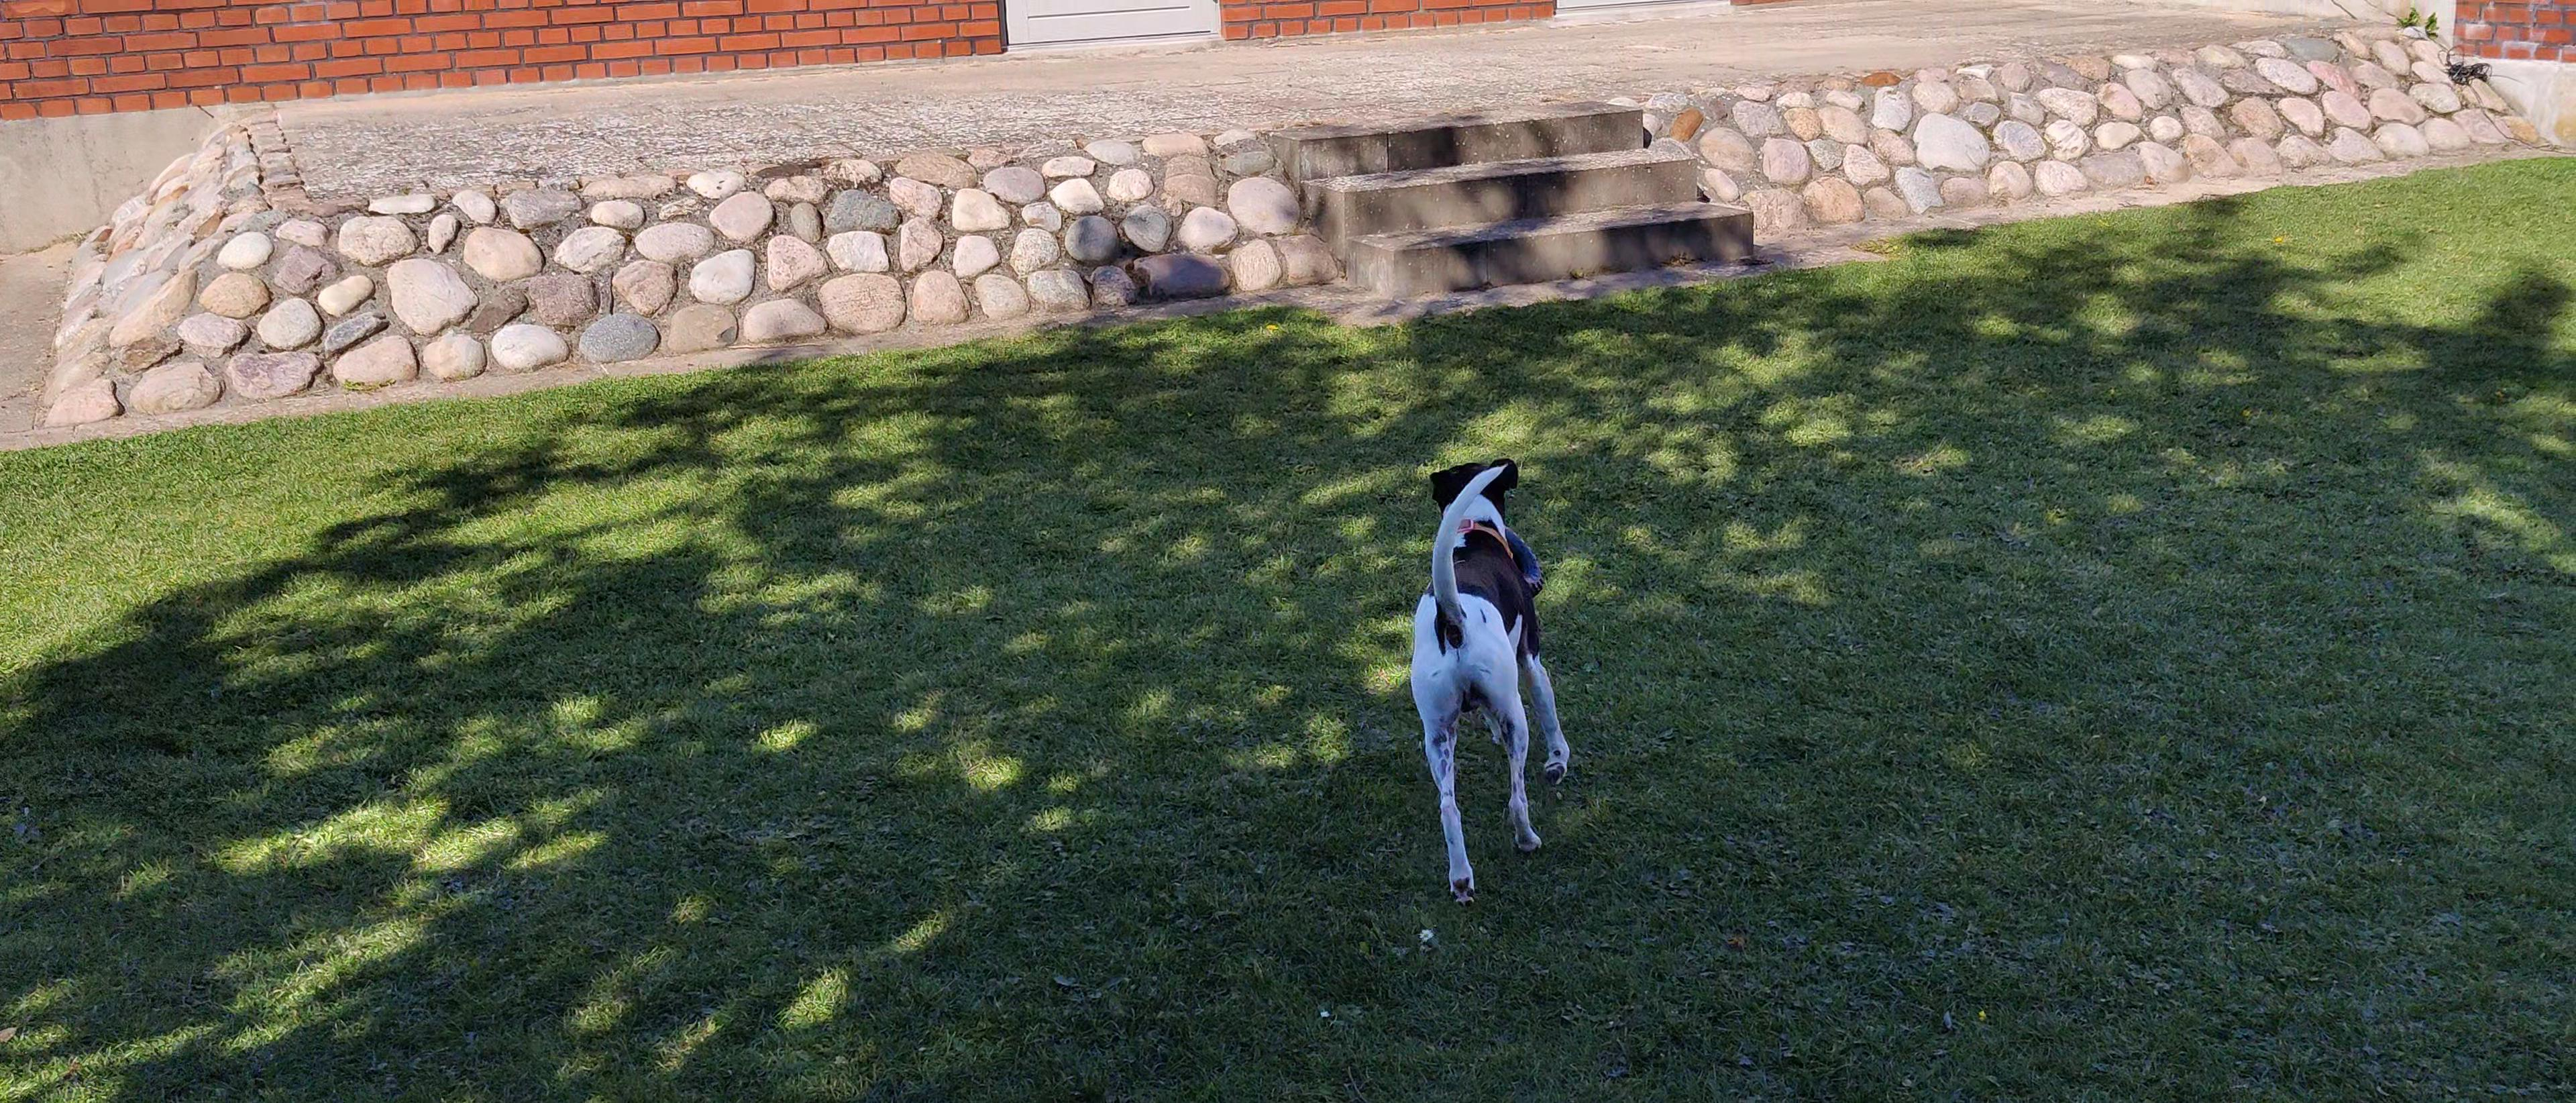Dog: (1390, 418, 1580, 917)
